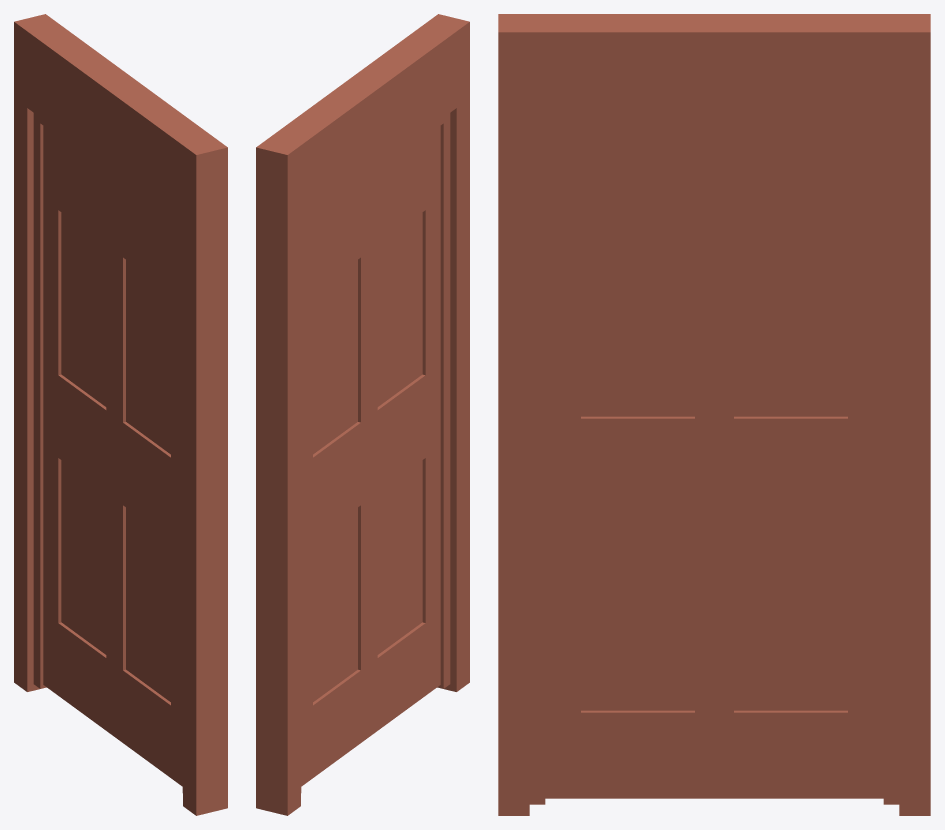
Rendered from Door.fbx.
3 views of the same model, side by side, from view 1: azimuth 30°, elevation 25°; view 2: azimuth 150°, elevation 25°; view 3: azimuth 270°, elevation 25° (orthographic). The views are drawn at different scales.
Parts seen in each view (by area): view 1: Type_03_Wall1; view 2: Type_03_Wall1; view 3: Type_03_Wall1.
Part boxes in pixels (x1,y1,x2,y2): Type_03_Wall1: [14, 14, 227, 815]; Type_03_Wall1: [256, 14, 469, 815]; Type_03_Wall1: [498, 14, 930, 815].
Size of the model in its own units: 10.37 by 104 by 207.
